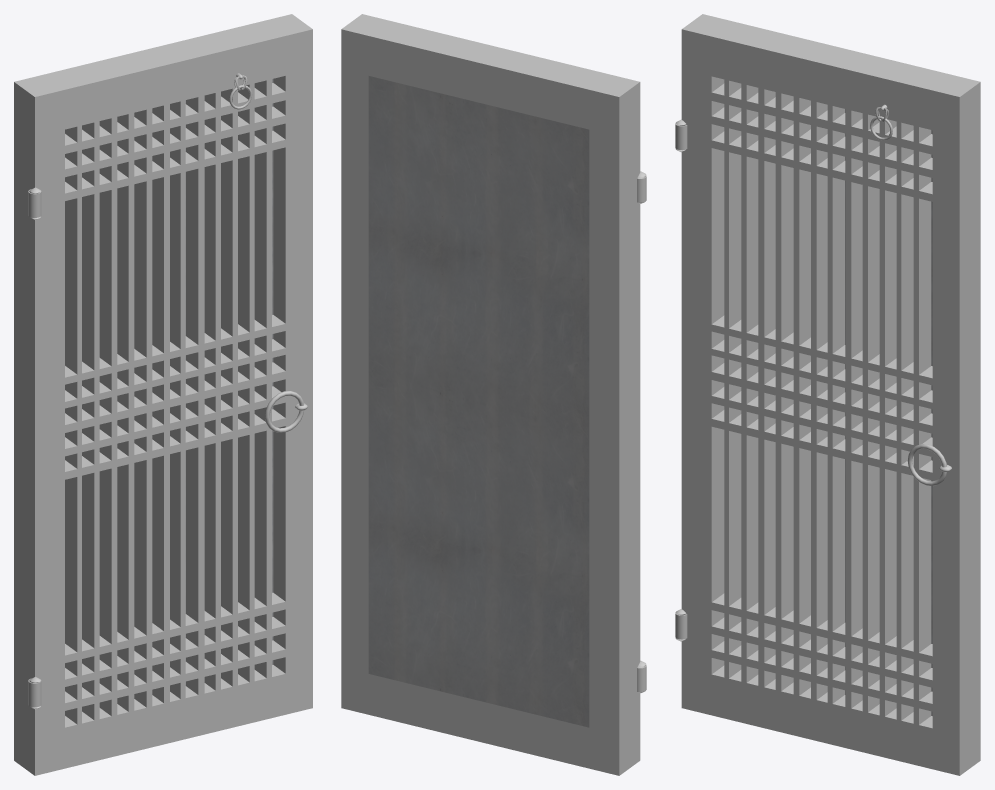
Rendered from SM_D_Wood_10.FBX.
3 renders of one model, left to right at view 1: azimuth 30°, elevation 25°; view 2: azimuth 150°, elevation 25°; view 3: azimuth 330°, elevation 25°, orthographic.
Visible parts, largest first — view 1: SM_D_Wood_10; view 2: SM_D_Wood_10; view 3: SM_D_Wood_10.
Part boxes in pixels (bbox=[...]): SM_D_Wood_10: bbox=[14, 14, 312, 775]; SM_D_Wood_10: bbox=[341, 14, 646, 775]; SM_D_Wood_10: bbox=[675, 14, 980, 775].
Bounding box in the file's own units: 81.71 × 12.53 × 187.
